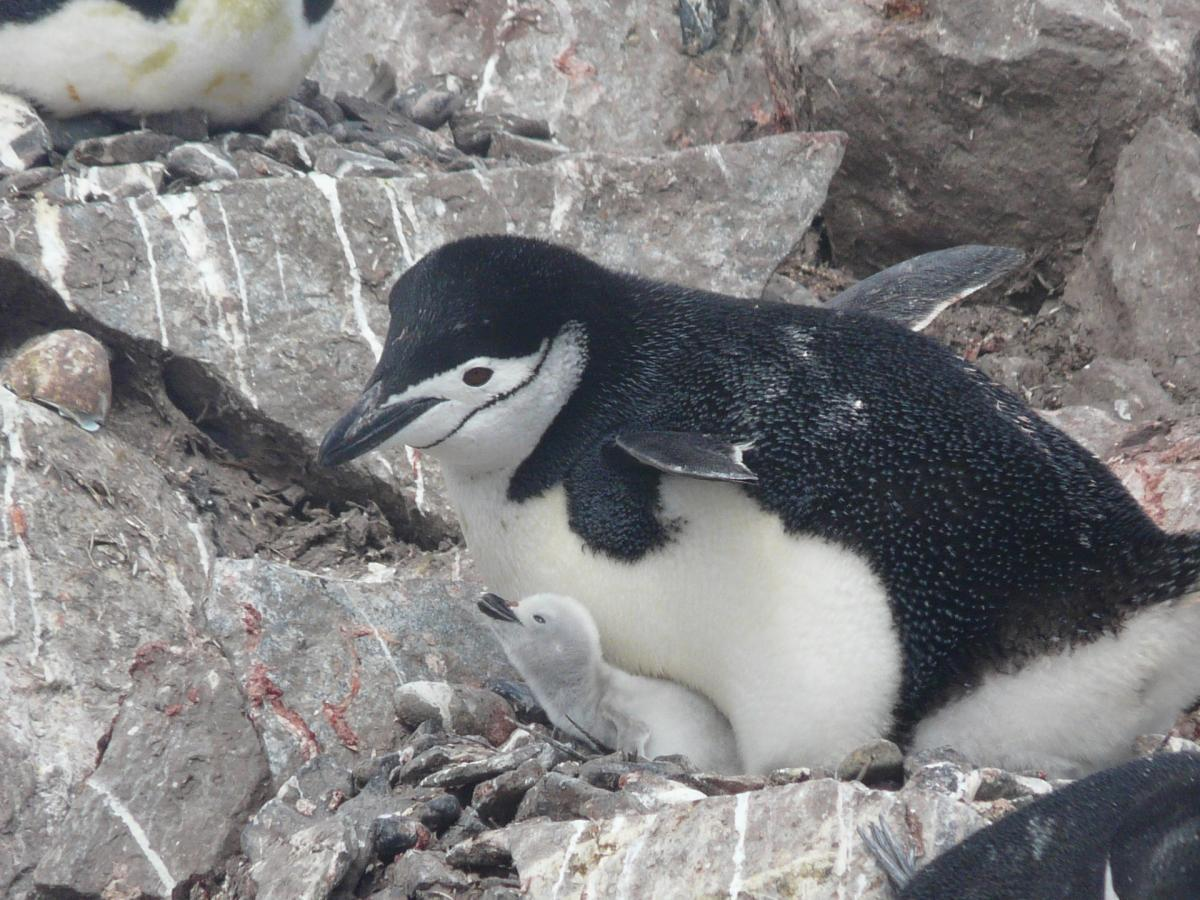chinstrap: (287, 208, 1200, 801)
